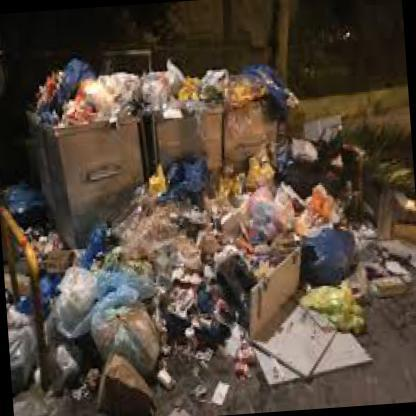Garbage: (50, 261, 161, 415), (99, 197, 191, 374), (167, 158, 273, 288), (205, 203, 349, 288), (267, 139, 346, 242), (35, 60, 137, 130), (139, 58, 226, 112), (222, 60, 296, 108), (9, 306, 32, 394), (4, 171, 36, 220)
